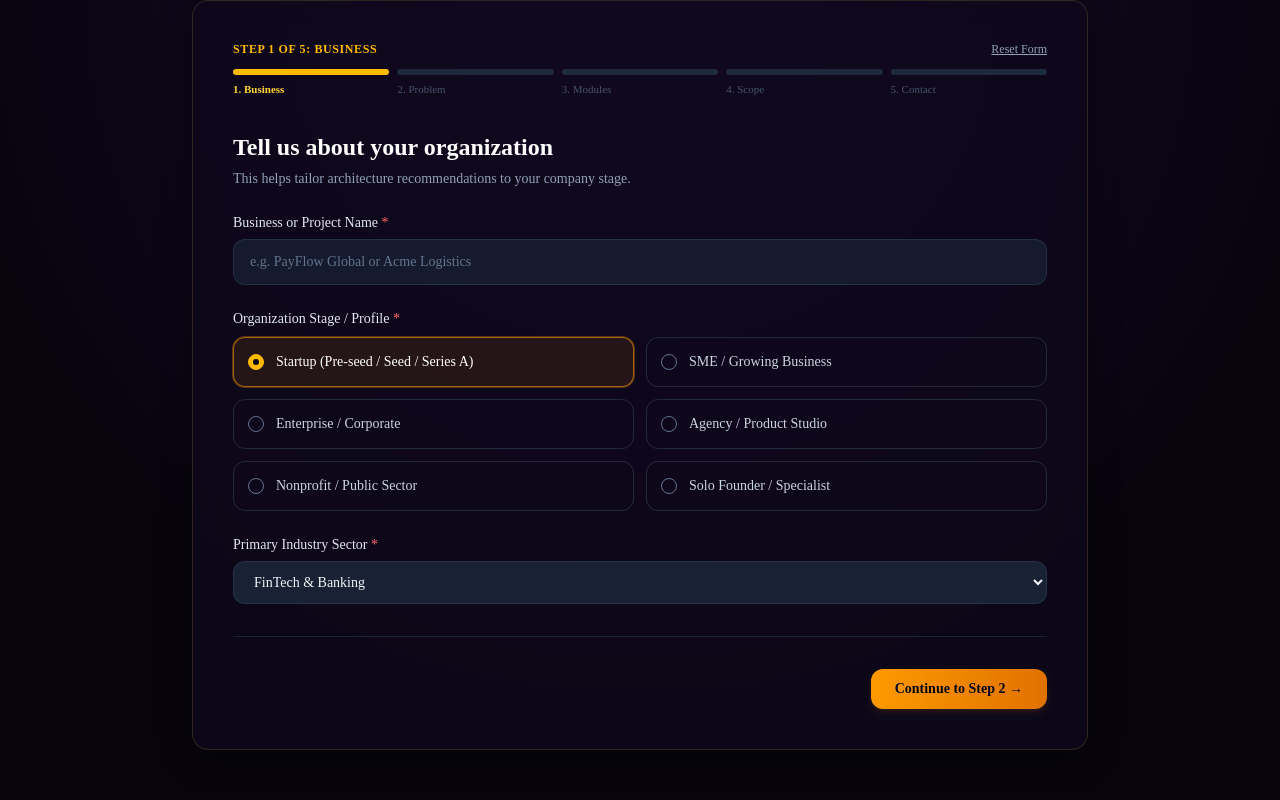
Test: TASK-P10-01: Brief Wizard Multi-Step Component › blocks navigation if Step 1 required fields are empty
The image size is (1280, 800).
Step 1. Click the button "Continue to Step 2 →" → (959, 689), box [871, 669, 1047, 709]
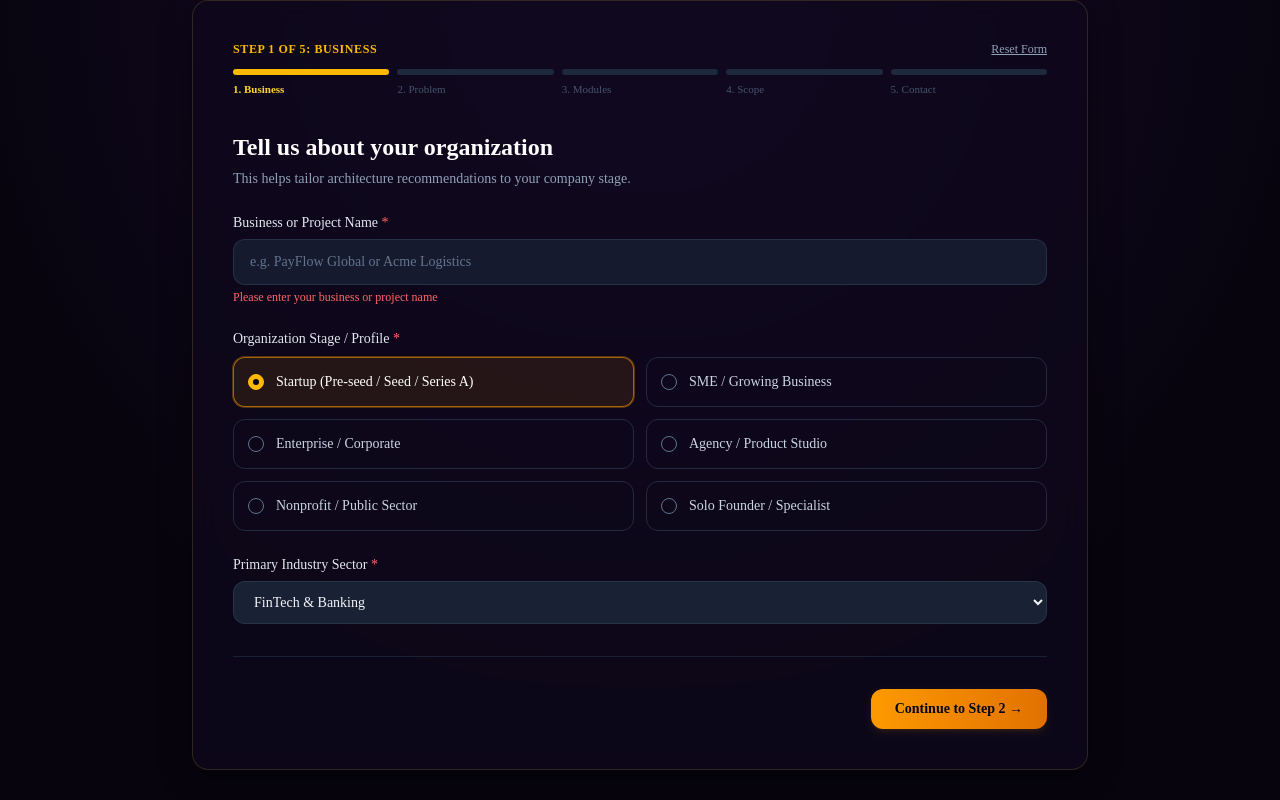
Expected: the text "Step 1 of 5: Business" is shown, [233, 41, 377, 57]
Now the text "Please enter your business or project name" is shown, box [233, 290, 438, 304]
